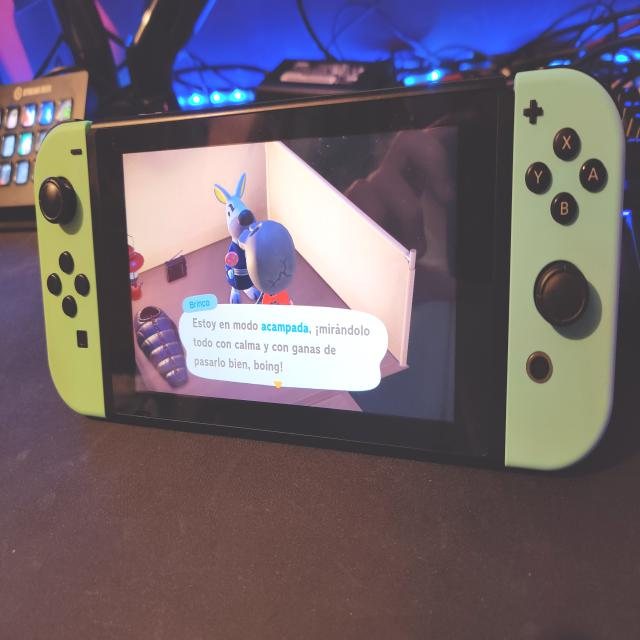text_bubble: (179, 291, 391, 394)
